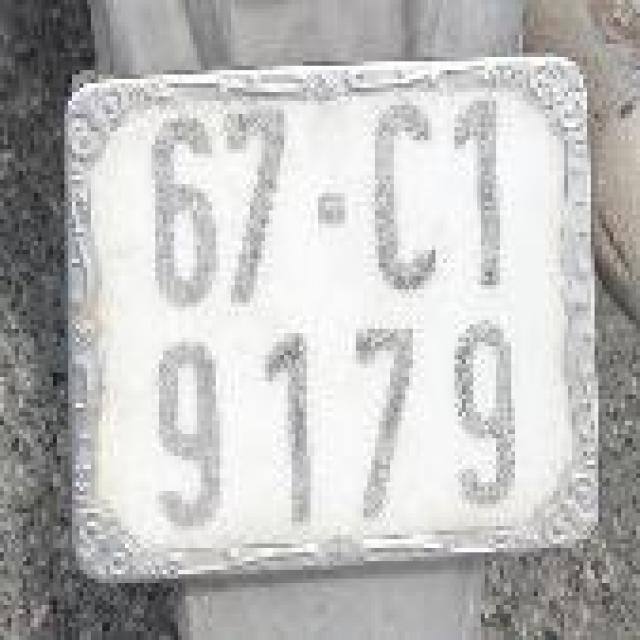1: (451, 83, 515, 307), (257, 318, 322, 537)
6: (132, 101, 224, 320)
7: (335, 311, 415, 535), (218, 96, 293, 312)
9: (434, 300, 536, 524), (138, 336, 237, 528)
C: (362, 79, 437, 302)
